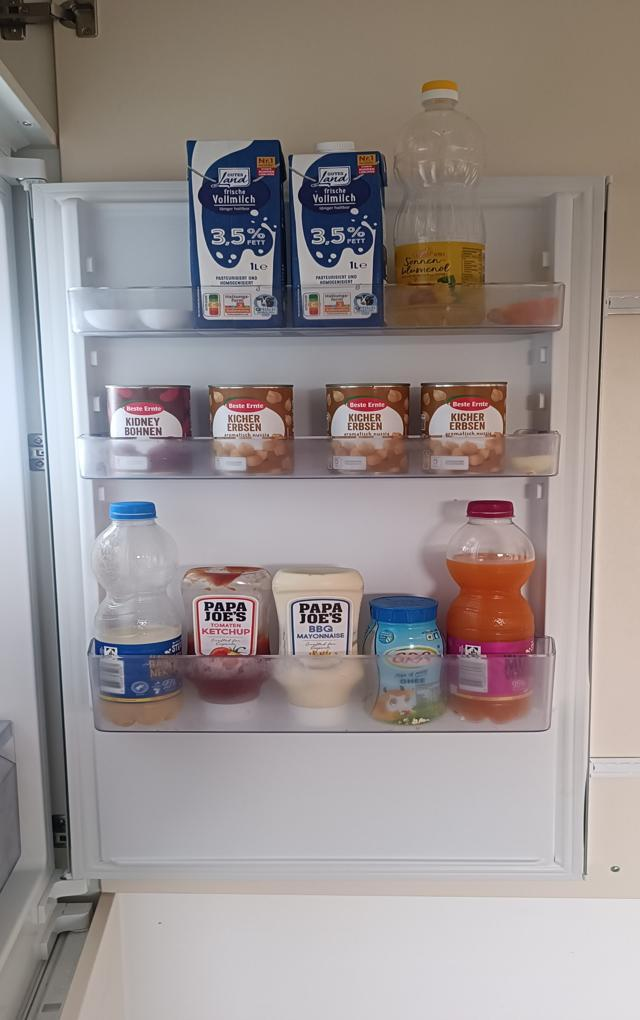bananajuice: (89, 499, 187, 725)
chickpeas: (419, 381, 508, 479), (209, 385, 294, 479), (327, 385, 407, 475)
ghee: (367, 593, 446, 730)
kidneybeans: (105, 384, 191, 474)
mayoniasie: (272, 568, 363, 729)
milk: (182, 137, 293, 332), (289, 138, 389, 333)
oil: (393, 78, 486, 332)
orangejuice: (446, 497, 539, 725)
tomatoketchup: (183, 563, 272, 723)
